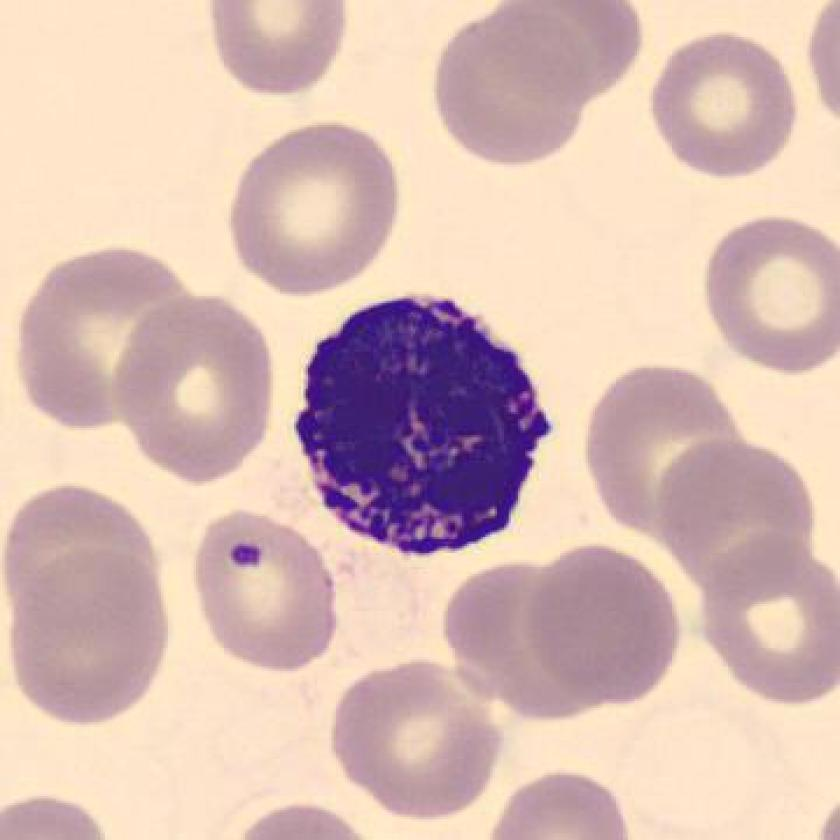basophil: (288, 286, 554, 559)
